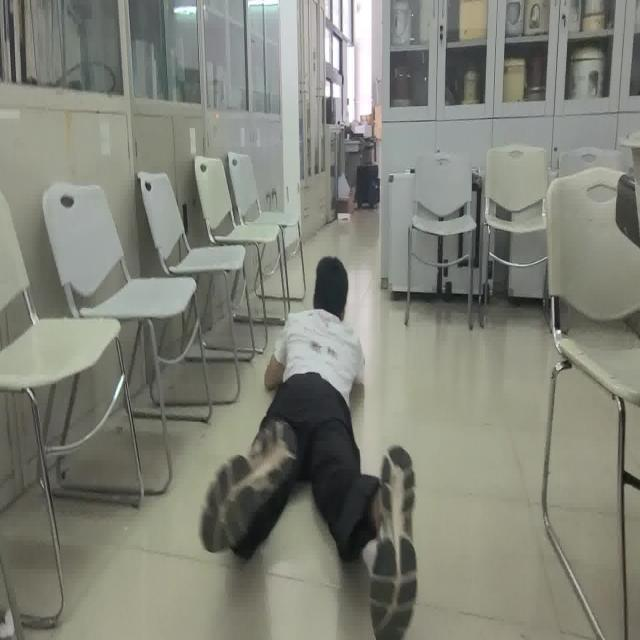Fall-Detected: (199, 252, 422, 640)
